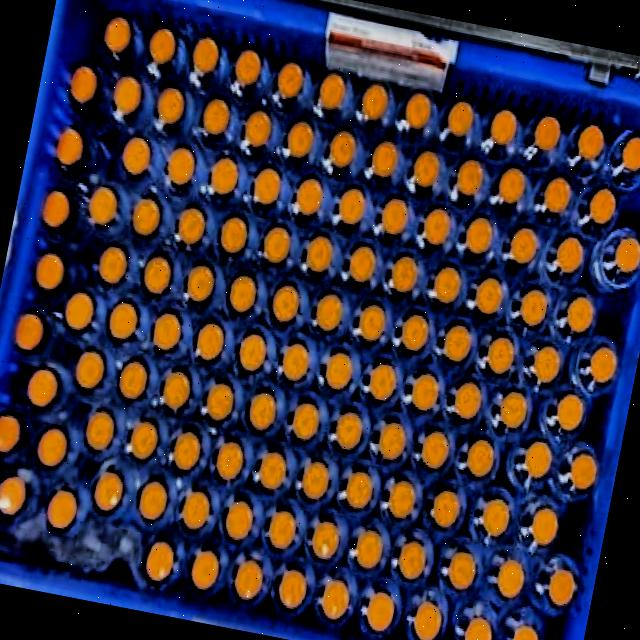vial: (38, 187, 72, 232), (144, 537, 176, 584), (110, 74, 144, 118), (145, 23, 178, 68), (34, 426, 67, 471), (203, 380, 235, 426), (45, 490, 79, 532), (100, 13, 133, 56), (126, 421, 159, 464), (61, 292, 96, 332), (12, 312, 46, 353), (26, 366, 59, 408), (119, 135, 151, 178), (84, 409, 116, 452), (189, 549, 219, 594), (86, 184, 118, 226), (142, 253, 174, 295), (93, 471, 125, 513), (277, 568, 307, 612), (366, 591, 396, 635), (54, 125, 84, 168), (161, 369, 190, 413), (443, 321, 472, 365), (129, 197, 160, 238), (385, 479, 416, 520), (219, 214, 249, 256), (251, 165, 281, 207), (194, 322, 224, 364), (137, 478, 167, 520), (314, 292, 344, 334), (270, 283, 300, 325), (334, 410, 364, 452), (309, 519, 339, 561), (97, 246, 129, 285), (167, 145, 196, 188), (152, 309, 181, 352), (234, 559, 263, 602), (555, 394, 586, 434), (565, 296, 596, 336), (209, 156, 239, 197), (300, 461, 330, 502), (377, 422, 407, 463), (452, 379, 482, 420), (464, 216, 493, 258), (233, 46, 262, 88), (496, 559, 525, 601), (0, 474, 28, 517), (176, 205, 206, 245), (68, 64, 98, 104), (74, 349, 104, 389), (184, 263, 214, 303), (399, 313, 429, 353), (480, 498, 510, 538), (108, 301, 137, 342), (247, 391, 276, 432), (421, 430, 450, 471), (320, 579, 349, 620), (34, 252, 65, 290), (409, 373, 440, 411), (182, 490, 210, 532), (345, 470, 373, 512), (432, 267, 462, 306), (569, 452, 599, 491), (446, 550, 476, 589), (533, 114, 562, 154), (391, 256, 420, 296), (328, 129, 357, 169), (118, 360, 147, 400), (368, 363, 397, 403), (531, 506, 560, 546), (282, 341, 310, 382), (359, 301, 387, 342), (466, 437, 494, 478), (189, 35, 219, 73), (499, 390, 529, 428), (224, 500, 251, 542), (474, 277, 503, 316), (156, 86, 185, 125), (229, 274, 258, 313), (324, 351, 353, 390), (423, 206, 451, 246), (543, 175, 571, 215), (290, 402, 318, 442), (519, 288, 547, 328), (525, 440, 553, 480), (548, 569, 576, 609), (397, 540, 425, 580), (214, 443, 244, 480), (244, 108, 271, 149), (432, 488, 459, 529), (589, 347, 618, 385), (555, 237, 583, 276), (509, 226, 537, 265), (498, 166, 526, 205), (412, 149, 440, 188), (259, 451, 287, 490), (354, 530, 382, 569), (381, 197, 408, 237), (372, 139, 399, 179), (276, 60, 303, 100), (174, 431, 201, 471), (577, 123, 606, 160), (405, 92, 433, 130), (361, 84, 389, 122), (589, 185, 616, 224), (339, 187, 366, 226), (202, 98, 229, 137), (447, 100, 474, 139), (239, 333, 266, 372), (287, 119, 313, 159), (455, 159, 483, 196), (414, 603, 442, 640), (490, 107, 517, 145), (487, 336, 514, 374), (268, 512, 295, 550), (318, 72, 343, 113), (262, 227, 290, 263), (297, 177, 322, 216), (533, 345, 560, 381), (348, 245, 374, 282), (306, 237, 332, 274), (614, 237, 640, 272), (0, 412, 21, 454), (621, 135, 640, 172), (465, 618, 494, 640), (512, 626, 540, 640)
